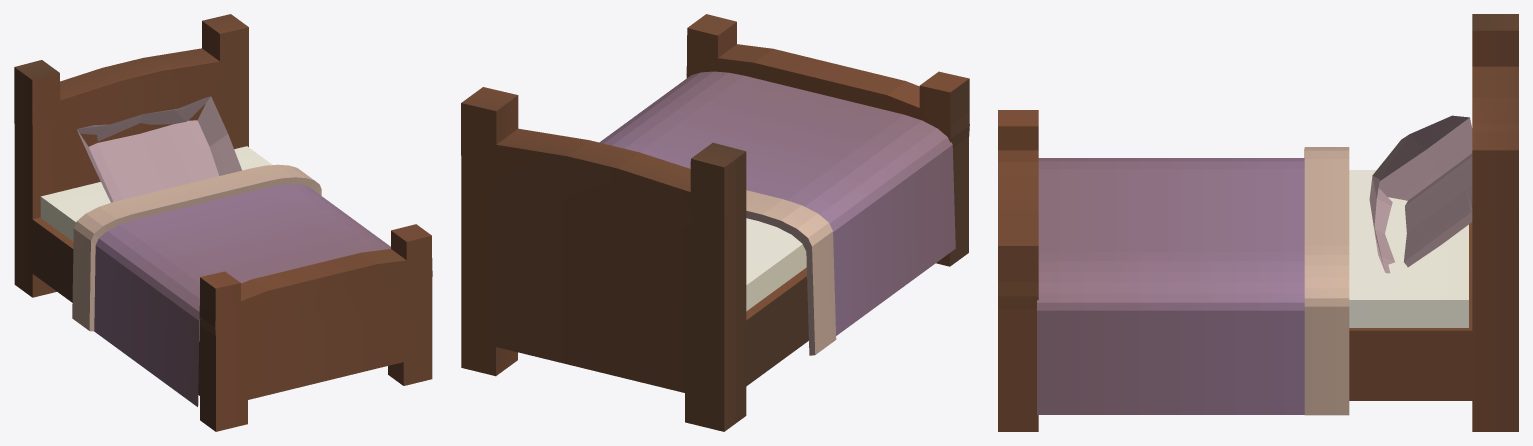
Rendered from kasur.glb.
The picture shows the model from 3 angles, left to right: view 1: azimuth 30°, elevation 25°; view 2: azimuth 150°, elevation 25°; view 3: azimuth 270°, elevation 25°; orthographic projection. The views are drawn at different scales.
Visible parts, largest first — view 1: Cube001; view 2: Cube001; view 3: Cube001.
Part boxes in pixels (bbox=[...]): Cube001: bbox=[14, 14, 432, 431]; Cube001: bbox=[461, 14, 969, 431]; Cube001: bbox=[998, 14, 1518, 431].
Size of the model in its own units: 0.931 by 0.833 by 1.39.
Materials: 1 (1 with a texture image).
